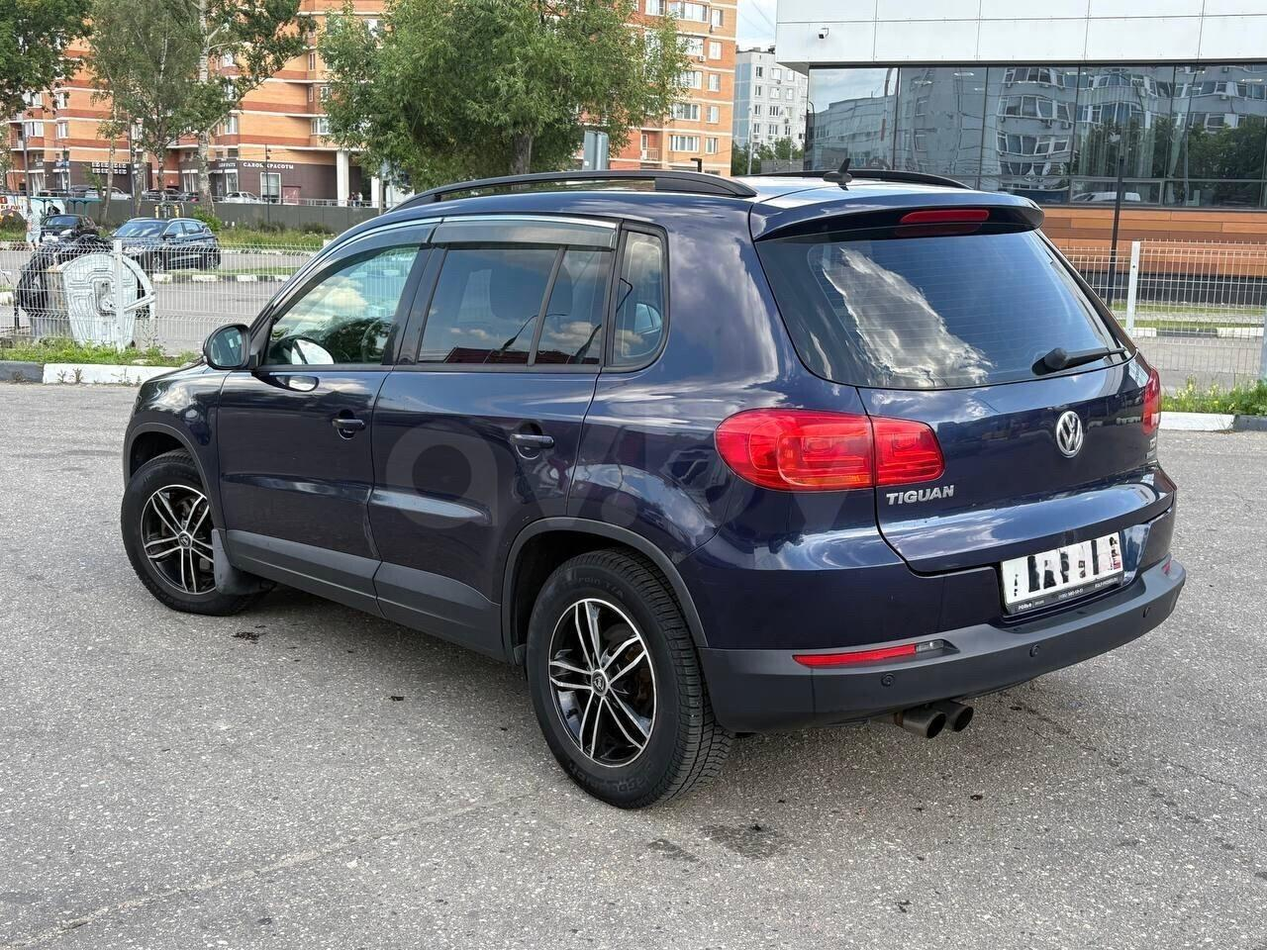Tiguan_2011-2018: (108, 161, 1189, 818)
